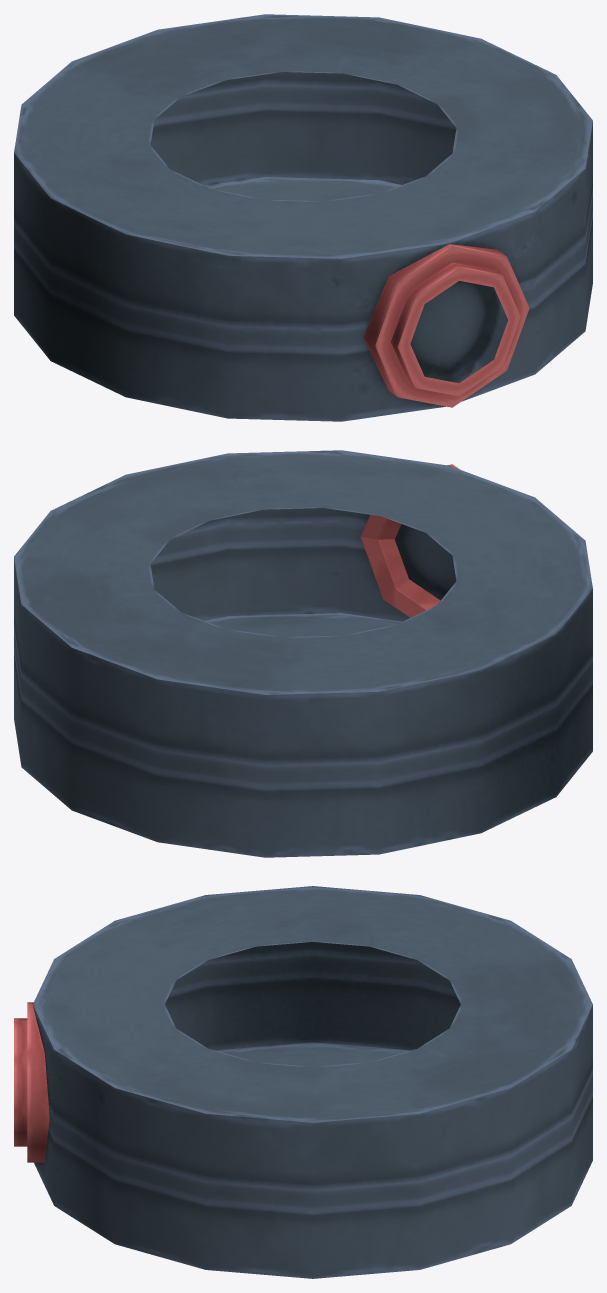
File: Tank_plug.fbx
3 renders of one model, top to bottom at view 1: azimuth 30°, elevation 25°; view 2: azimuth 150°, elevation 25°; view 3: azimuth 270°, elevation 25°, orthographic. The views are drawn at different scales.
Visible parts, largest first — view 1: Tank_plug; view 2: Tank_plug; view 3: Tank_plug.
Part boxes in pixels (left/top/right/bottom): Tank_plug: left=14, top=14, right=592, bottom=421; Tank_plug: left=14, top=450, right=592, bottom=857; Tank_plug: left=14, top=886, right=592, bottom=1278.
Size of the model in its own units: 516 by 159 by 534.
